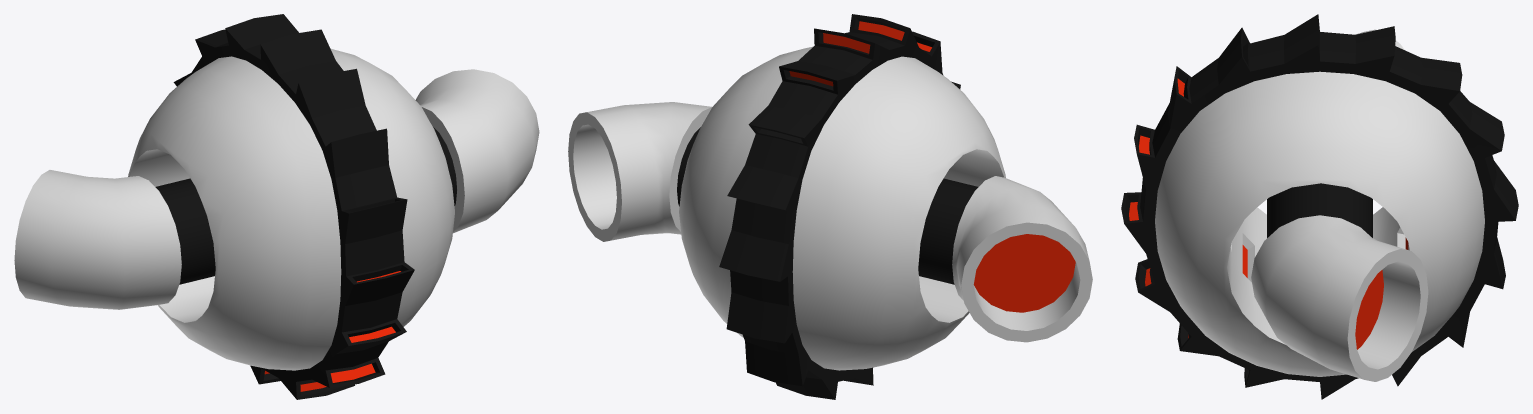
The model's file is DeathWheel.fbx.
The picture shows the model from 3 angles, left to right: view 1: azimuth 30°, elevation 25°; view 2: azimuth 150°, elevation 25°; view 3: azimuth 270°, elevation 25°; orthographic projection. The views are drawn at different scales.
Visible parts, largest first — view 1: deathWheel__heavyMech1; view 2: deathWheel__heavyMech1; view 3: deathWheel__heavyMech1.
Boxes of the visible parts, x1,y1,x2,y2 form: deathWheel__heavyMech1: (14,14,539,399); deathWheel__heavyMech1: (568,14,1092,399); deathWheel__heavyMech1: (1121,14,1518,399).
Size of the model in its own units: 4.68 by 2.95 by 2.95.
